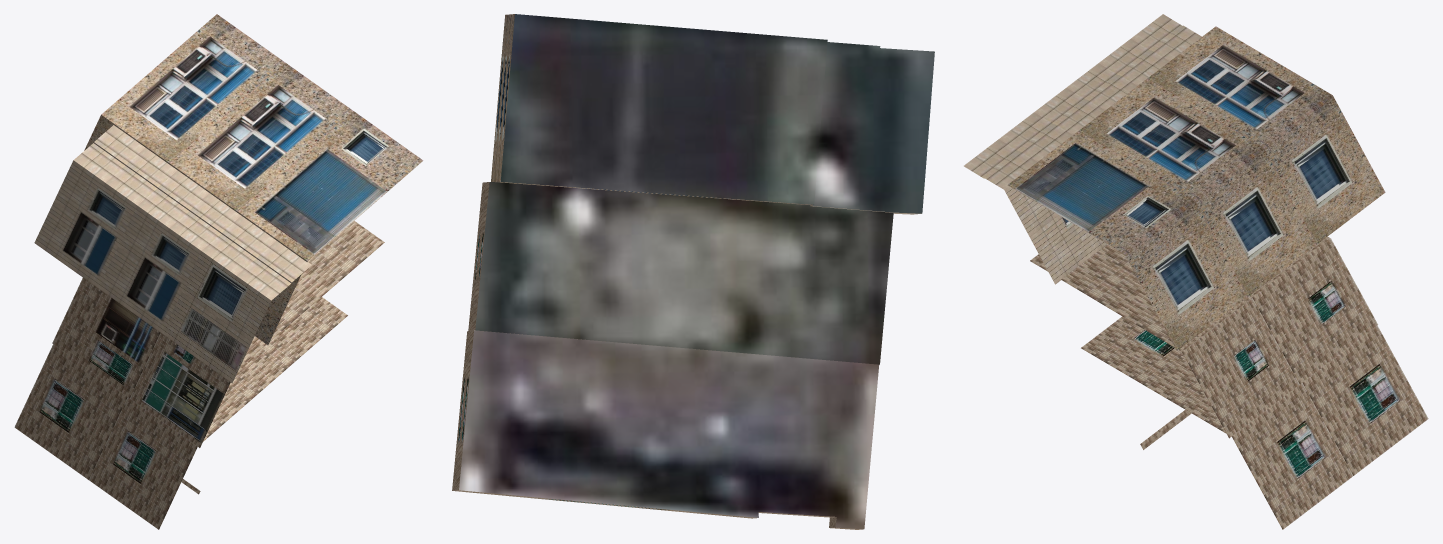
3 renders of one model, left to right at view 1: azimuth 30°, elevation 25°; view 2: azimuth 150°, elevation 25°; view 3: azimuth 270°, elevation 25°, orthographic. The views are drawn at different scales.
Size of the model in its own units: 15.03 by 16.92 by 16.71.
Materials: 15 (15 with a texture image).
